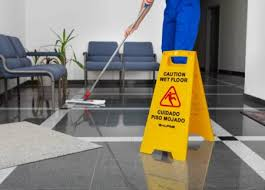wet caution sign: (141, 52, 215, 153)
